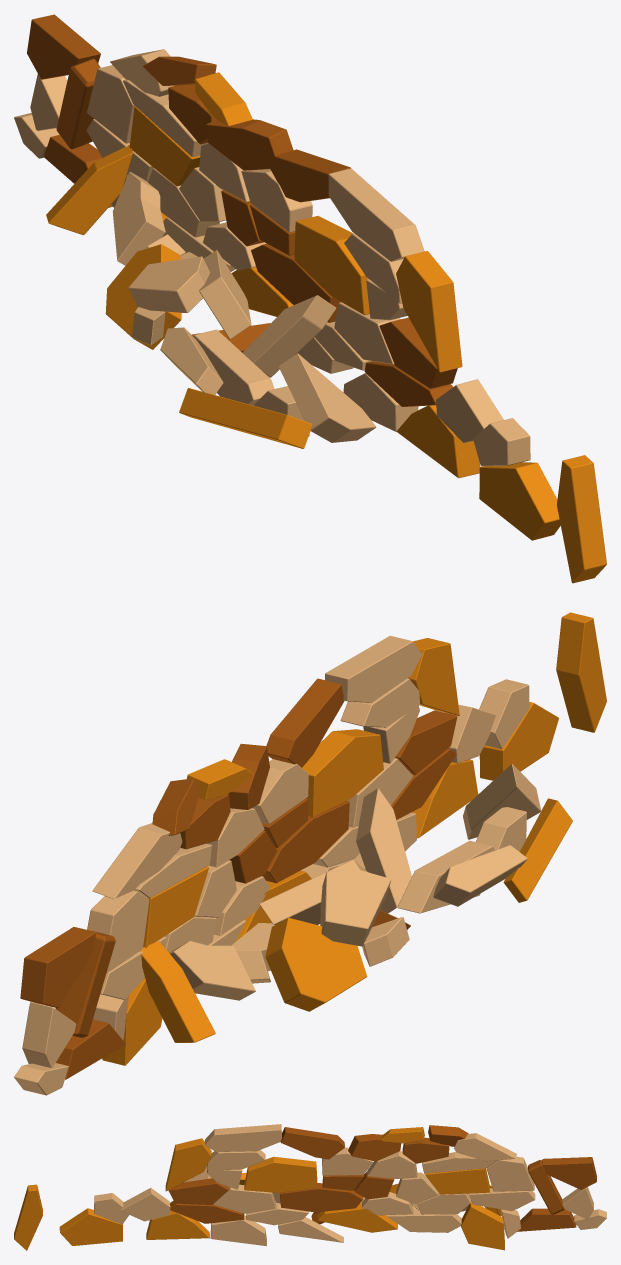
Rendered from Muro4.fbx.
3 views of the same model, one above another, from view 1: azimuth 30°, elevation 25°; view 2: azimuth 150°, elevation 25°; view 3: azimuth 270°, elevation 25° (orthographic). The views are drawn at different scales.
Parts seen in each view (by area): view 1: Piedrote.114; view 2: Piedrote.114; view 3: Piedrote.114.
Boxes of the visible parts, box(x1,y1,x2,y2) form: Piedrote.114: box(14, 14, 606, 583); Piedrote.114: box(14, 612, 606, 1095); Piedrote.114: box(14, 1124, 606, 1250).
Bounding box in the file's own units: 380 × 428 × 1876.
